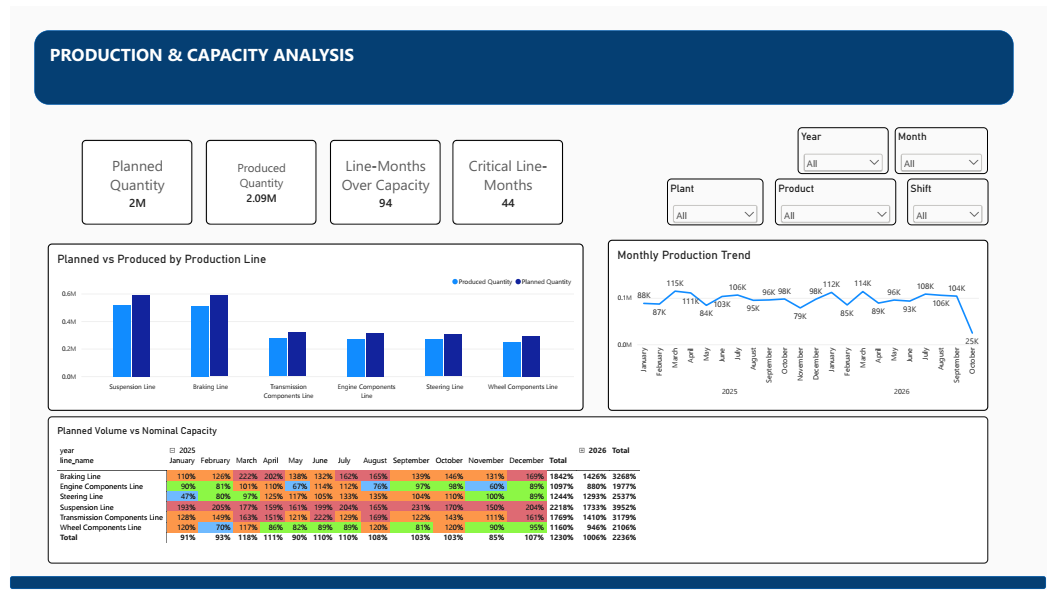

The page's visual inventory and layout, read from the dashboard file:
{"tool":"powerbi","page":{"name":"Production & Capacity","canvas":[1920,1080],"ordinal":1},"visuals":[{"type":"shape","box":[45,45,1815,137.5],"z":0},{"type":"clusteredColumnChart","title":"Planned vs Produced by Production Line","fields":{"Category":["production_lines.line_name"],"Y":["_Measures.Produced Quantity","_Measures.Planned Quantity"]},"box":[70,440,992.5,310],"z":1000},{"type":"pivotTable","title":"Planned Volume vs Nominal Capacity","fields":{"Columns":["calendar.year","calendar.month_name"],"Rows":["production_lines.line_name"],"Values":["_Measures.Capacity Utilization %"]},"box":[70,760,1742.5,272.5],"z":2000},{"type":"lineChart","title":"Monthly Production Trend","fields":{"Category":["calendar.year","calendar.month_name"],"Y":["_Measures.Produced Quantity"]},"box":[1107.5,432.5,705,317.5],"z":3000},{"type":"textbox","box":[74,67.4,680,51.7],"z":4000},{"type":"textbox","box":[87.3,119,576.7,50],"z":5000},{"type":"slicer","title":"Year","fields":{"Values":["calendar.year"]},"box":[1460,225,168,86],"z":6000},{"type":"slicer","title":"Month","fields":{"Values":["calendar.month_name"]},"box":[1640,225,172,86],"z":7000},{"type":"slicer","title":"Plant","fields":{"Values":["production_lines.plant"]},"box":[1217.5,320,178,86],"z":8000},{"type":"slicer","title":"Product","fields":{"Values":["products.product_name"]},"box":[1417.5,320,224,86],"z":9000},{"type":"slicer","title":"Shift","fields":{"Values":["production_orders.shift"]},"box":[1662.5,320,150,86],"z":10000},{"type":"shape","box":[0,1056,1920,24],"z":11000},{"type":"cardVisual","fields":{"Data":["_Measures.Planned Quantity"]},"box":[132.5,247.5,205,157.5],"z":12000},{"type":"cardVisual","fields":{"Data":["_Measures.Produced Quantity"]},"box":[362.5,247.5,205,157.5],"z":13000},{"type":"cardVisual","fields":{"Data":["_Measures.Line-Months Over Capacity"]},"box":[592.5,247.5,205,157.5],"z":14000},{"type":"cardVisual","fields":{"Data":["_Measures.Critical Line-Months"]},"box":[820,247.5,205,157.5],"z":15000}]}

Visuals, with their boxes in screenshot pixels (x1, y1, x2, y2), scaled from the page's 1920x1080 canvas onto the 1053x595 screenshot:
shape: bbox=(25, 25, 1020, 101)
"Planned vs Produced by Production Line" clusteredColumnChart: bbox=(38, 242, 583, 413)
"Planned Volume vs Nominal Capacity" pivotTable: bbox=(38, 419, 994, 569)
"Monthly Production Trend" lineChart: bbox=(607, 238, 994, 413)
textbox: bbox=(41, 37, 414, 66)
textbox: bbox=(48, 66, 364, 93)
"Year" slicer: bbox=(801, 124, 893, 171)
"Month" slicer: bbox=(899, 124, 994, 171)
"Plant" slicer: bbox=(668, 176, 765, 224)
"Product" slicer: bbox=(777, 176, 900, 224)
"Shift" slicer: bbox=(912, 176, 994, 224)
shape: bbox=(0, 582, 1052, 594)
cardVisual - _Measures.Planned Quantity: bbox=(73, 136, 185, 223)
cardVisual - _Measures.Produced Quantity: bbox=(199, 136, 311, 223)
cardVisual - _Measures.Line-Months Over Capacity: bbox=(325, 136, 437, 223)
cardVisual - _Measures.Critical Line-Months: bbox=(450, 136, 562, 223)
